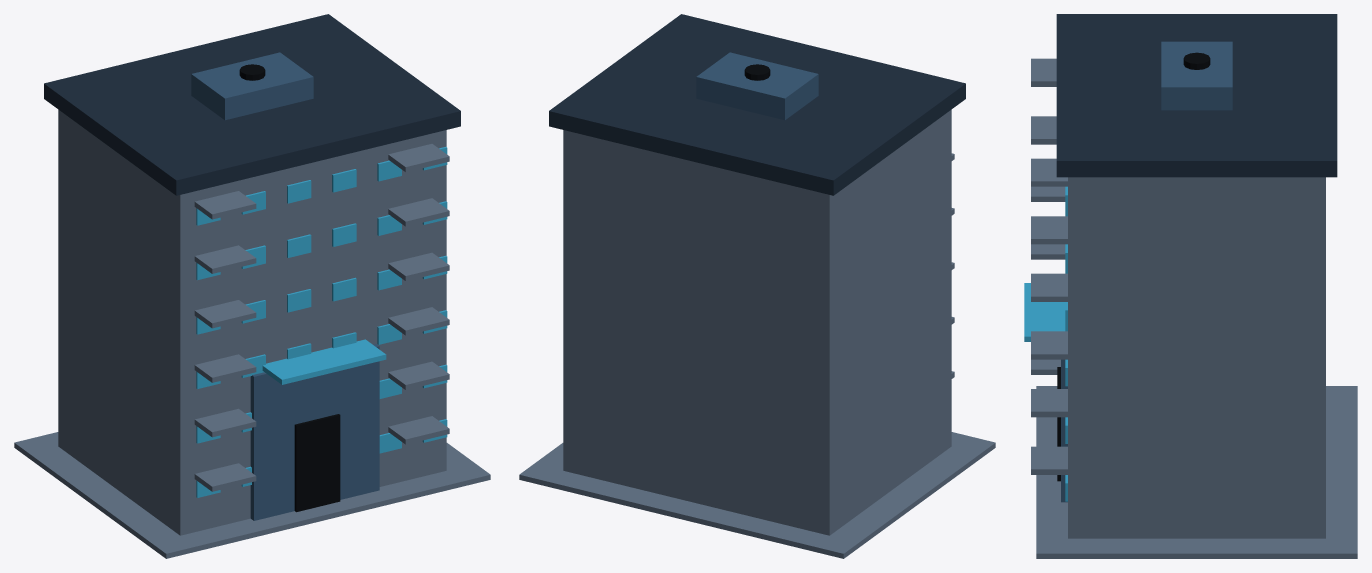
Rendered from apartment-building.obj.
3 views of the same model, side by side, from view 1: azimuth 30°, elevation 25°; view 2: azimuth 150°, elevation 25°; view 3: azimuth 270°, elevation 25° (orthographic). The views are drawn at different scales.
Visible parts, largest first — view 1: Main apartment, Roof slab, Balcony, Entrance wing, Foundation, Window, Rooftop plant, Door, Entry canopy; view 2: Main apartment, Roof slab, Foundation, Rooftop plant; view 3: Main apartment, Roof slab, Foundation, Balcony, Rooftop plant, Entry canopy, Window, Entrance wing, Vent.
Boxes of the visible parts, box(x1,y1,x2,y2) form: Main apartment: box(58, 109, 446, 535); Roof slab: box(44, 14, 460, 195); Balcony: box(194, 144, 449, 491); Entrance wing: box(250, 344, 379, 520); Foundation: box(14, 432, 490, 558); Window: box(196, 147, 447, 497); Rooftop plant: box(191, 52, 313, 120); Door: box(294, 414, 340, 512); Entry canopy: box(262, 339, 386, 384); Main apartment: box(563, 109, 951, 535); Roof slab: box(549, 14, 965, 195); Foundation: box(519, 432, 995, 558); Rooftop plant: box(696, 52, 818, 120); Main apartment: box(1068, 177, 1325, 538); Roof slab: box(1056, 14, 1337, 177); Foundation: box(1036, 386, 1357, 558); Balcony: box(1031, 58, 1067, 474); Rooftop plant: box(1161, 41, 1232, 110); Entry canopy: box(1024, 283, 1065, 341); Window: box(1065, 186, 1067, 501); Entrance wing: box(1061, 359, 1067, 502); Vent: box(1183, 52, 1210, 69).
Size of the model in its own units: 5.3 by 6.15 by 4.46.
